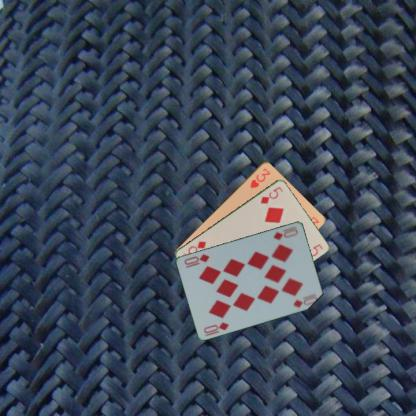10d: (201, 319, 230, 337), (271, 223, 299, 241)
3h: (248, 165, 271, 189)
5d: (258, 184, 284, 205)
